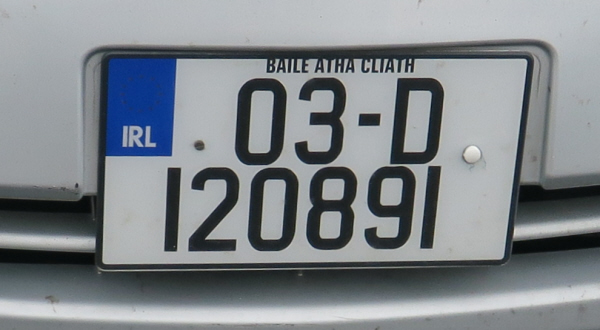license_plate: (96, 53, 533, 273)
